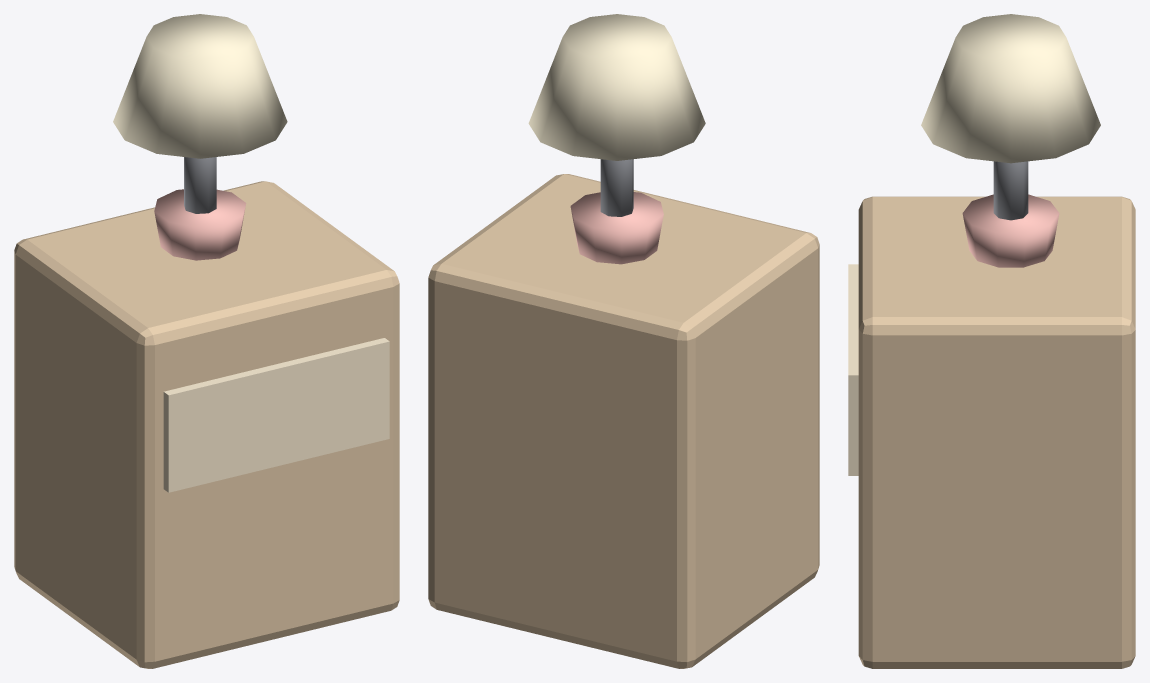
The model's file is criado_mudo.glb.
3 renders of one model, left to right at view 1: azimuth 30°, elevation 25°; view 2: azimuth 150°, elevation 25°; view 3: azimuth 270°, elevation 25°, orthographic. The views are drawn at different scales.
Parts seen in each view (by area): view 1: criado_mudo; view 2: criado_mudo; view 3: criado_mudo.
Part boxes in pixels (bbox=[...]): criado_mudo: bbox=[14, 14, 399, 668]; criado_mudo: bbox=[428, 14, 819, 668]; criado_mudo: bbox=[848, 14, 1135, 668].
Size of the model in its own units: 0.45 by 0.91 by 0.415.
